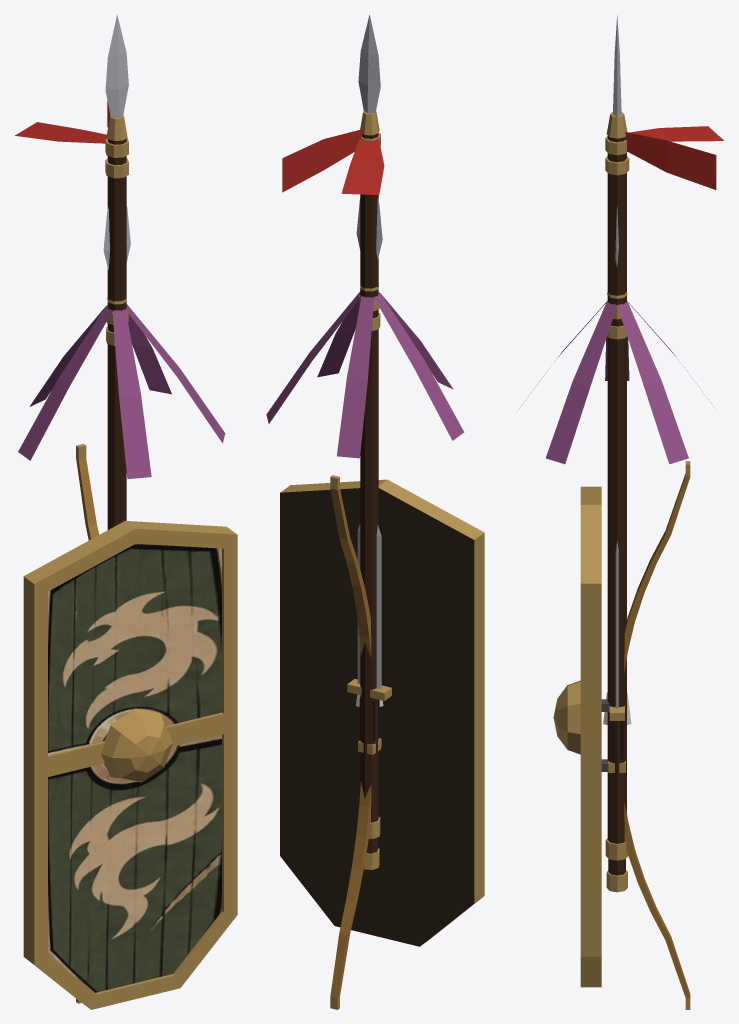
Rendered from minion-props.glb.
3 renders of one model, left to right at view 1: azimuth 30°, elevation 25°; view 2: azimuth 150°, elevation 25°; view 3: azimuth 270°, elevation 25°, orthographic. The views are drawn at different scales.
Parts seen in each view (by area): view 1: prop_shield, prop_lance, prop_spear, prop_bow; view 2: prop_shield, prop_spear, prop_lance, prop_bow, prop_sword; view 3: prop_spear, prop_shield, prop_lance, prop_bow, prop_sword.
Boxes of the visible parts, left/top/right/bottom form: prop_shield: left=23, top=521, right=237, bottom=1009; prop_lance: left=18, top=206, right=225, bottom=479; prop_spear: left=15, top=14, right=128, bottom=529; prop_bow: left=76, top=444, right=99, bottom=1003; prop_shield: left=280, top=479, right=484, bottom=946; prop_spear: left=282, top=15, right=384, bottom=838; prop_lance: left=266, top=198, right=464, bottom=869; prop_bow: left=330, top=475, right=379, bottom=1009; prop_sword: left=347, top=524, right=391, bottom=754; prop_spear: left=605, top=15, right=723, bottom=860; prop_shield: left=553, top=486, right=609, bottom=987; prop_lance: left=519, top=206, right=714, bottom=892; prop_bow: left=611, top=461, right=690, bottom=1009; prop_sword: left=608, top=540, right=625, bottom=772.
Bounding box in the file's own units: 0.52 × 2.48 × 0.4775.
Materials: 2 (2 with a texture image).
